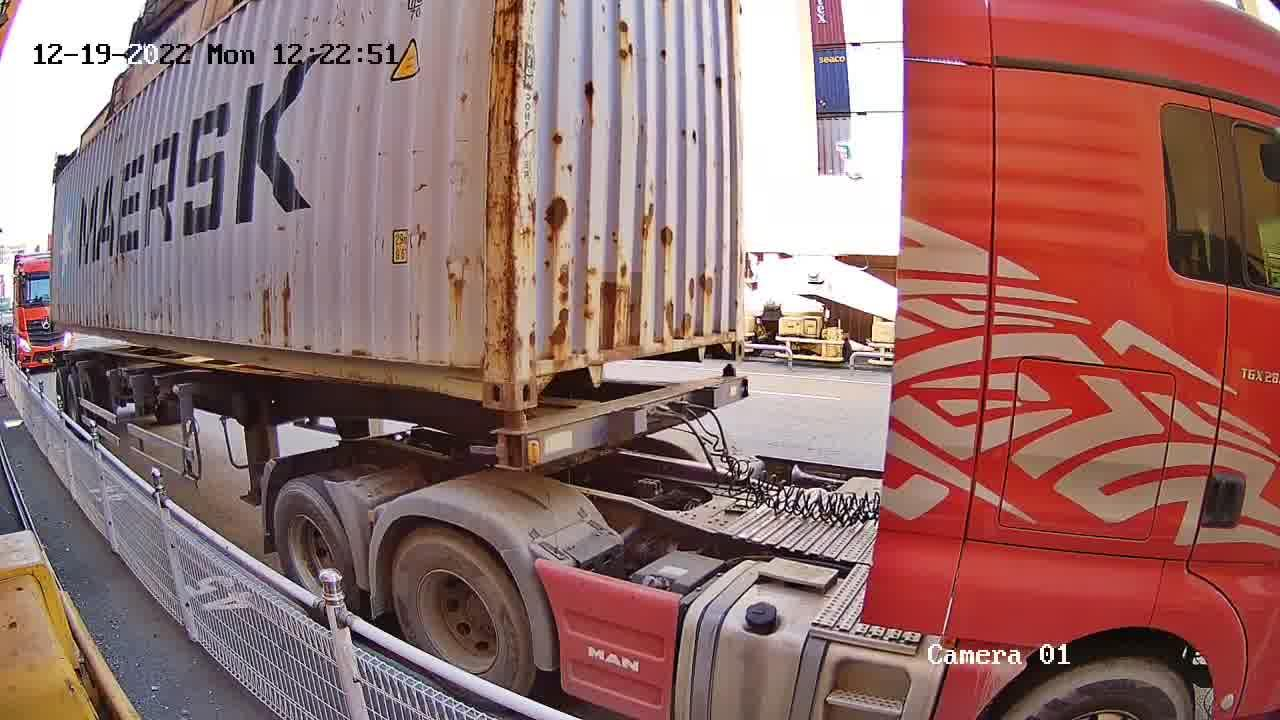Chassis: (498, 373, 747, 468)
Cone: (497, 413, 530, 468), (721, 363, 741, 401)
Hole_L: (514, 345, 565, 409)
Hole_R: (454, 343, 513, 411), (707, 308, 744, 361)
Tire: (394, 534, 525, 684), (274, 486, 352, 598)
